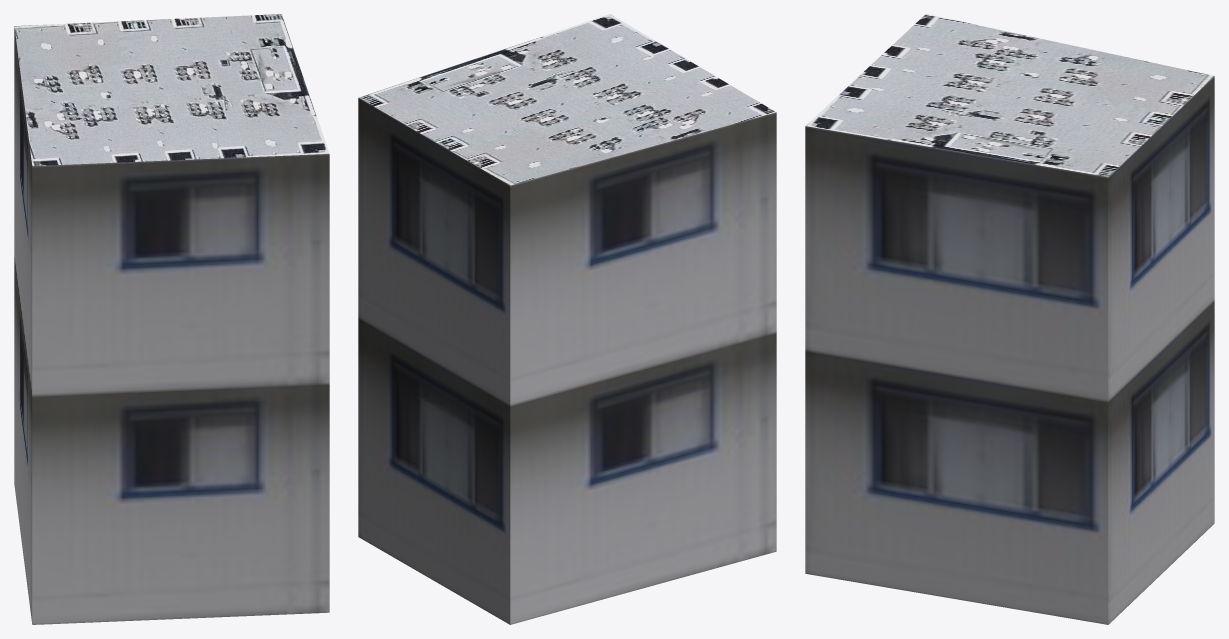
The model's file is ResTex__2564.fbx.
3 renders of one model, left to right at view 1: azimuth 30°, elevation 25°; view 2: azimuth 150°, elevation 25°; view 3: azimuth 270°, elevation 25°, orthographic. The views are drawn at different scales.
Parts seen in each view (by area): view 1: CityEngineMaterial_9_m, CityEngineMaterial_8_m; view 2: CityEngineMaterial_9_m, CityEngineMaterial_8_m; view 3: CityEngineMaterial_9_m, CityEngineMaterial_8_m.
Boxes of the visible parts, x1,y1,x2,y2 form: CityEngineMaterial_9_m: (14,26,329,624); CityEngineMaterial_8_m: (14,14,329,165); CityEngineMaterial_9_m: (358,98,776,624); CityEngineMaterial_8_m: (359,14,775,185); CityEngineMaterial_9_m: (805,76,1214,624); CityEngineMaterial_8_m: (806,14,1213,177).
Bounding box in the file's own units: 4.69 × 6 × 4.97.
Materials: 2 (2 with a texture image).
